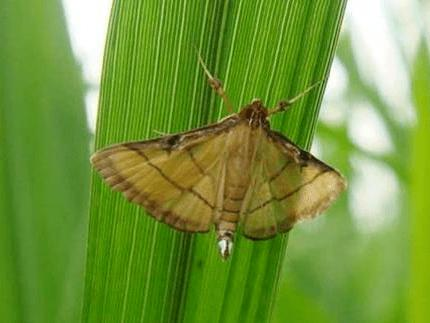Crambidae: (89, 50, 346, 257)
